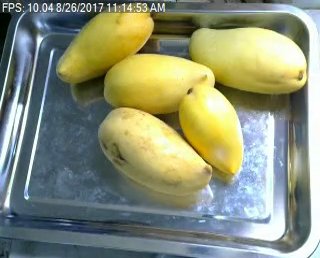Mango: (96, 108, 211, 196), (55, 3, 154, 83), (190, 27, 306, 91), (105, 53, 216, 113), (179, 85, 242, 175)
